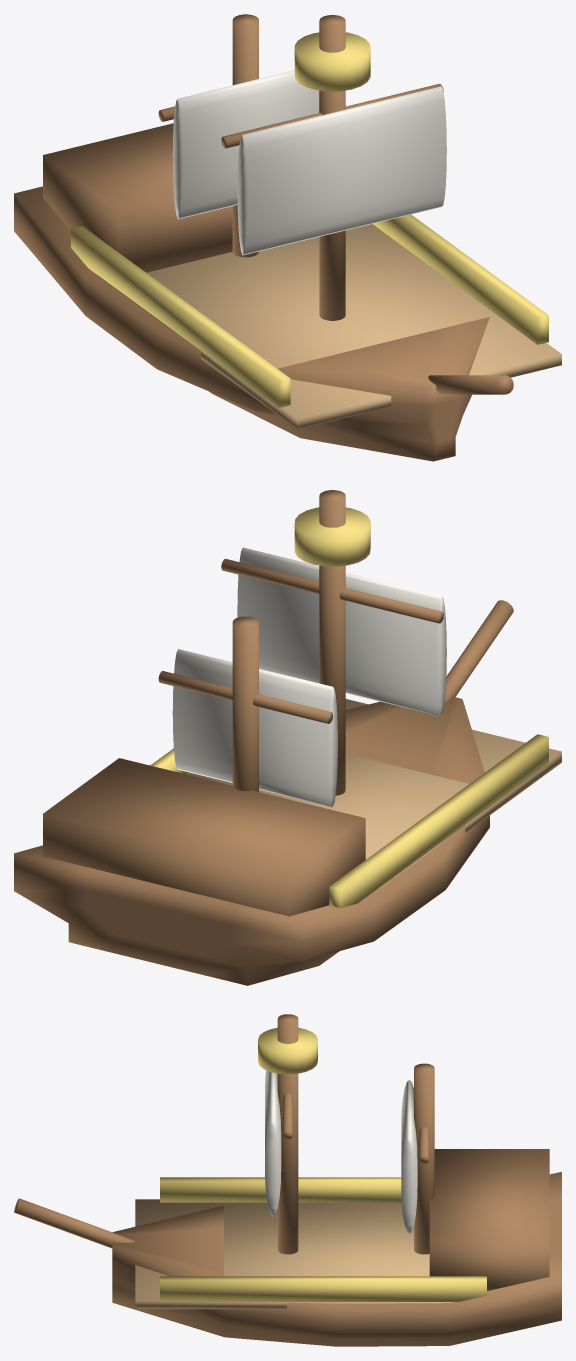
Rendered from SM64_PirateGalleon.fbx.
3 views of the same model, one above another, from view 1: azimuth 30°, elevation 25°; view 2: azimuth 150°, elevation 25°; view 3: azimuth 270°, elevation 25° (orthographic). The views are drawn at different scales.
Parts seen in each view (by area): view 1: GalleonDeck, GalleonHull, Cylinder.003, SternCabin, Cylinder.006, Cube, Cube.001, Cylinder.001, Cylinder.007, Cylinder.004, Cylinder, Cylinder.002; view 2: GalleonHull, SternCabin, Cylinder.003, Cylinder.006, GalleonDeck, Cube, Cylinder.001, Cylinder.004, Cylinder.007, Cylinder.002, Cylinder, Cylinder.005; view 3: GalleonHull, GalleonDeck, SternCabin, Cube.001, Cube, Cylinder.001, Cylinder.004, Cylinder.007, Cylinder.006, Cylinder.003, Cylinder, Cylinder.002.
Part boxes in pixels (x1,y1,x2,y2): GalleonDeck: (97, 224, 561, 429); GalleonHull: (14, 186, 489, 461); Cylinder.003: (237, 86, 446, 255); SternCabin: (43, 123, 232, 272); Cylinder.006: (172, 70, 319, 219); Cube: (71, 226, 290, 407); Cube.001: (373, 214, 548, 344); Cylinder.001: (319, 15, 345, 320); Cylinder.007: (294, 32, 370, 91); Cylinder.004: (232, 14, 258, 257); Cylinder: (428, 375, 513, 394); Cylinder.002: (221, 83, 443, 148); GalleonHull: (14, 696, 489, 985); SternCabin: (43, 758, 365, 916); Cylinder.003: (237, 547, 446, 716); Cylinder.006: (172, 649, 337, 807); GalleonDeck: (189, 699, 561, 900); Cube: (329, 734, 548, 907); Cylinder.001: (319, 490, 345, 795); Cylinder.004: (232, 616, 258, 791); Cylinder.007: (294, 507, 370, 566); Cylinder.002: (221, 559, 443, 623); Cylinder: (445, 600, 513, 701); Cylinder.005: (158, 671, 332, 723); GalleonHull: (112, 1171, 561, 1346); GalleonDeck: (135, 1199, 453, 1309); SternCabin: (429, 1149, 549, 1290); Cube.001: (160, 1276, 486, 1301); Cube: (160, 1177, 401, 1202); Cylinder.001: (277, 1014, 298, 1254); Cylinder.004: (414, 1063, 434, 1254); Cylinder.007: (258, 1027, 317, 1074); Cylinder.006: (401, 1080, 417, 1233); Cylinder.003: (265, 1070, 281, 1216); Cylinder: (14, 1198, 134, 1248); Cylinder.002: (283, 1093, 292, 1139).
Bounding box in the file's own units: 9.6 × 11.9 × 20.1.
